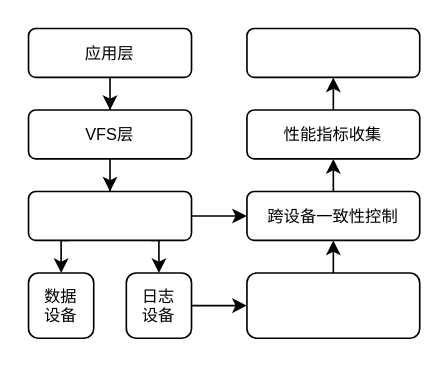
This 448x367 diagram has some shape labels left out. The centre of each missing label's shape, as x and y in pixels:
f2fs核心层: pixel 109 215
监控与评估模块: pixel 332 52
高速日志设备 （NVMe/DRAM盘）: pixel 332 304
